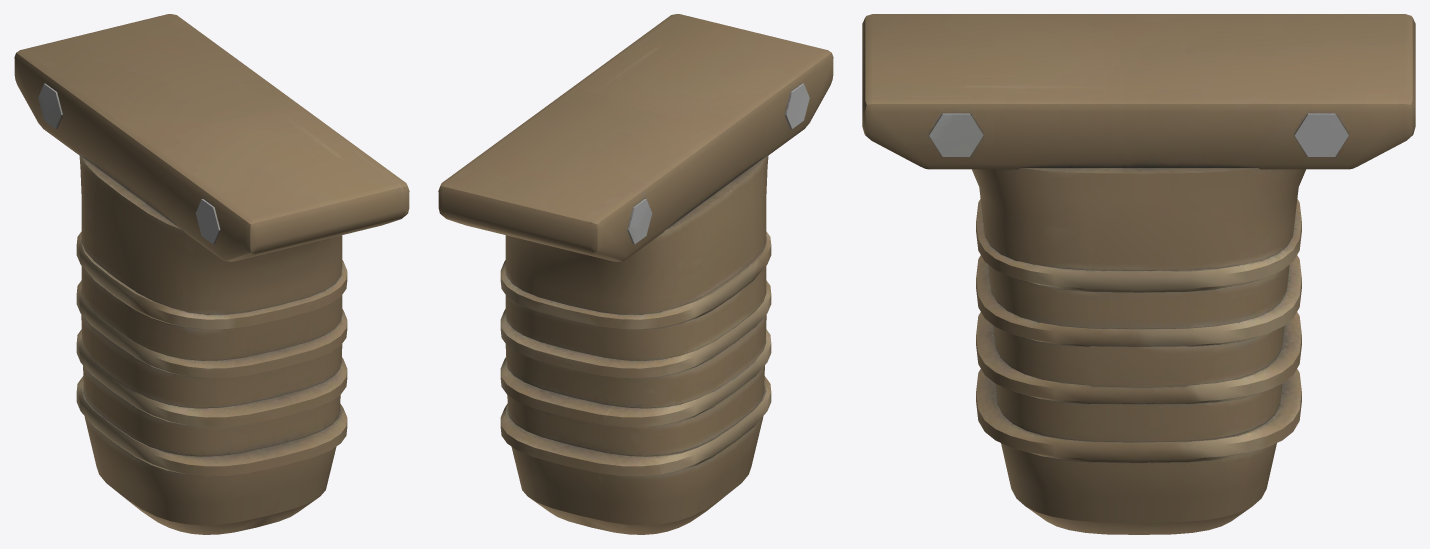
The model's file is empunhadura_curta_tan.glb.
The picture shows the model from 3 angles, left to right: view 1: azimuth 30°, elevation 25°; view 2: azimuth 150°, elevation 25°; view 3: azimuth 270°, elevation 25°; orthographic projection. The views are drawn at different scales.
Parts seen in each view (by area): view 1: empunhadura_curta_tan_punho; view 2: empunhadura_curta_tan_punho; view 3: empunhadura_curta_tan_punho.
Boxes of the visible parts, <box> form: empunhadura_curta_tan_punho: <box>14,14,409,534</box>; empunhadura_curta_tan_punho: <box>438,14,833,534</box>; empunhadura_curta_tan_punho: <box>862,14,1415,534</box>.
Size of the model in its own units: 0.0258 by 0.0473 by 0.053.
1 material, 1 textured.
